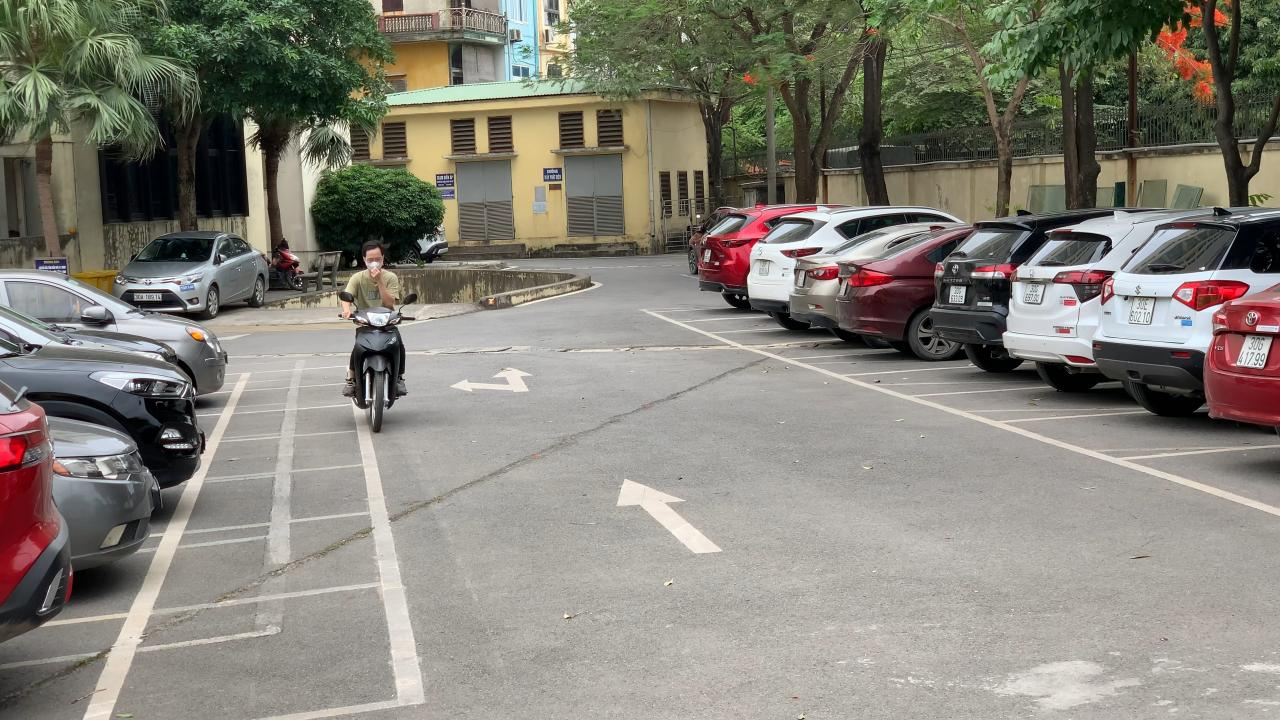motorcyclist: (336, 240, 418, 433)
